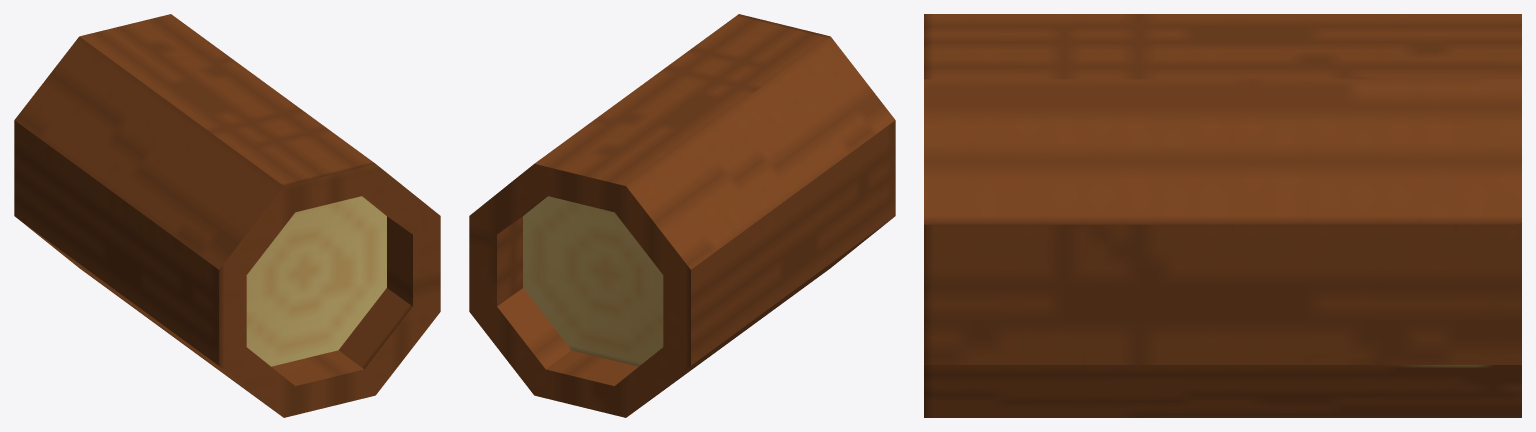
The model's file is item_wood.obj.
The picture shows the model from 3 angles, left to right: view 1: azimuth 30°, elevation 25°; view 2: azimuth 150°, elevation 25°; view 3: azimuth 270°, elevation 25°; orthographic projection. The views are drawn at different scales.
Visible parts, largest first — view 1: cylinder; view 2: cylinder; view 3: cylinder.
Part boxes in pixels (x1,y1,x2,y2): cylinder: (14, 14, 440, 417); cylinder: (469, 14, 895, 417); cylinder: (924, 14, 1521, 417).
Bounding box in the file's own units: 0.3125 × 0.3125 × 0.5.
Materials: 1 (1 with a texture image).
